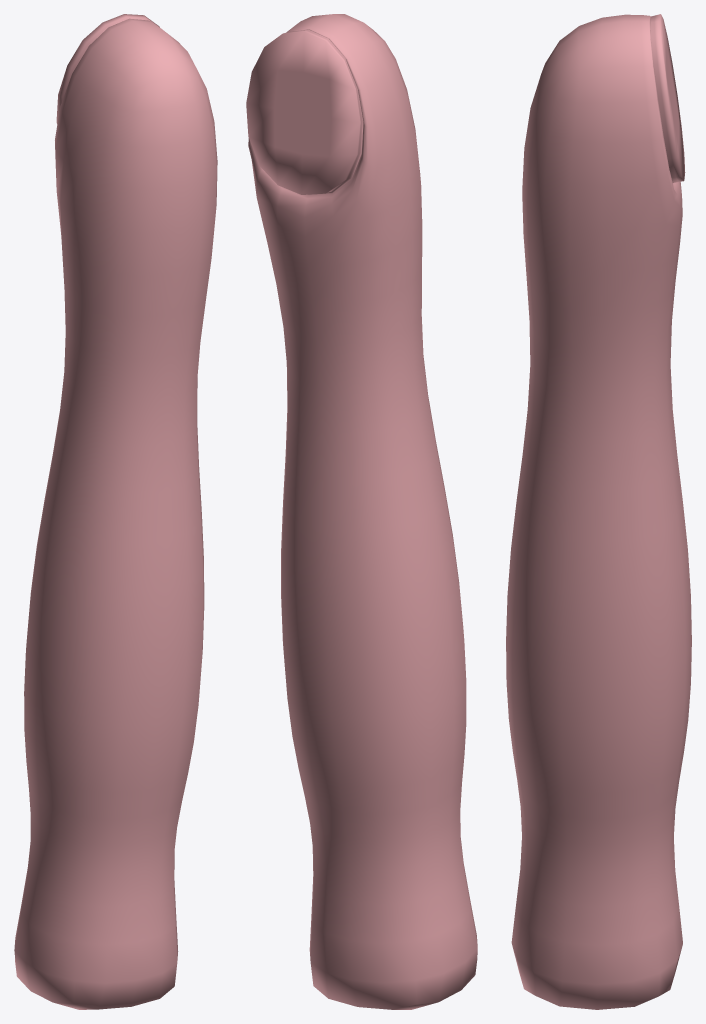
File: finger.001.fbx
The picture shows the model from 3 angles, left to right: view 1: azimuth 30°, elevation 25°; view 2: azimuth 150°, elevation 25°; view 3: azimuth 270°, elevation 25°; orthographic projection. The views are drawn at different scales.
Parts seen in each view (by area): view 1: finger.001; view 2: finger.001; view 3: finger.001.
Boxes of the visible parts, box(x1,y1,x2,y2) form: finger.001: box(14, 14, 217, 1009); finger.001: box(246, 14, 477, 1009); finger.001: box(506, 14, 691, 1009).
Bounding box in the file's own units: 44.73 × 218 × 36.86.
